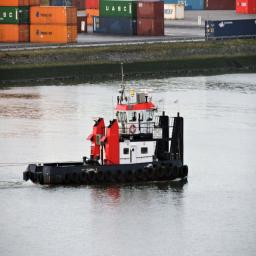tugboat: (22, 88, 191, 194)
